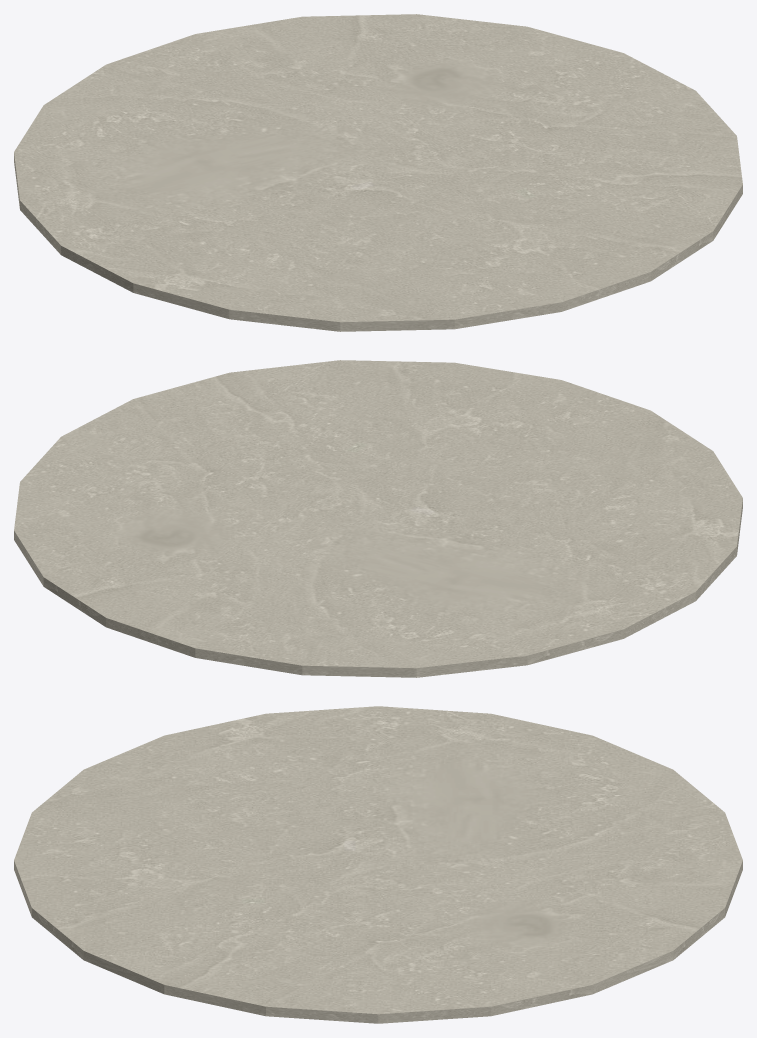
The model's file is cfb44f74-4f50-4af2-ba8c-4510fa20682b.glb.
3 renders of one model, top to bottom at view 1: azimuth 30°, elevation 25°; view 2: azimuth 150°, elevation 25°; view 3: azimuth 270°, elevation 25°, orthographic.
Parts seen in each view (by area): view 1: AlabasterRoundTile; view 2: AlabasterRoundTile; view 3: AlabasterRoundTile.
Boxes of the visible parts, x1=… form: AlabasterRoundTile: x1=14, y1=14, x2=742, y2=331; AlabasterRoundTile: x1=14, y1=360, x2=742, y2=677; AlabasterRoundTile: x1=14, y1=706, x2=742, y2=1023.
Size of what is drawn, in the model's own units: 4 by 0.0579 by 4.
1 material, 1 textured.
